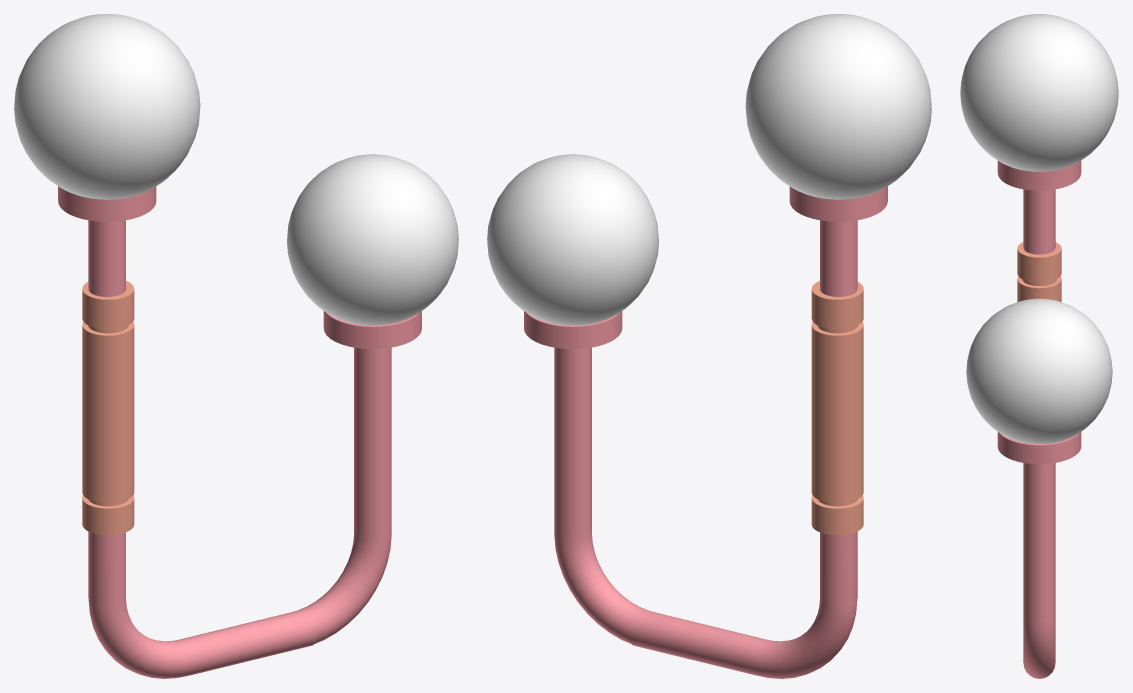
Rendered from 2_bulb_of_Light.fbx.
The picture shows the model from 3 angles, left to right: view 1: azimuth 30°, elevation 25°; view 2: azimuth 150°, elevation 25°; view 3: azimuth 270°, elevation 25°; orthographic projection. The views are drawn at different scales.
Visible parts, largest first — view 1: Tube_3; view 2: Tube_3; view 3: Tube_3.
Part boxes in pixels (x1,y1,x2,y2): Tube_3: (14,14,458,678); Tube_3: (487,14,931,678); Tube_3: (960,14,1118,678).
Size of the model in its own units: 1287 by 1960 by 494.
